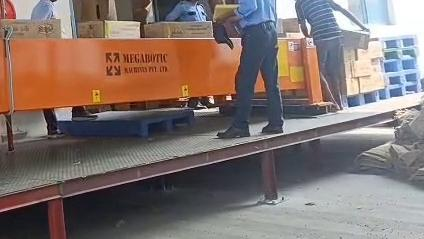box: (0, 19, 61, 37), (78, 20, 140, 37), (145, 22, 212, 37)
